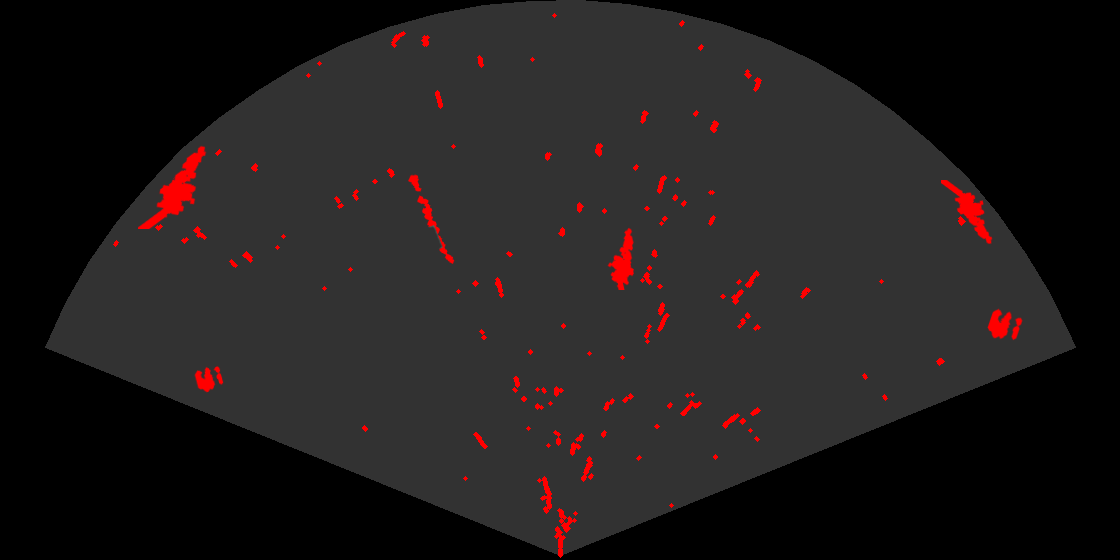ball: (986, 307, 1024, 342), (193, 364, 225, 394)
chain: (406, 173, 456, 266)
frogman: (138, 144, 208, 229), (941, 180, 994, 246), (606, 226, 636, 290)
